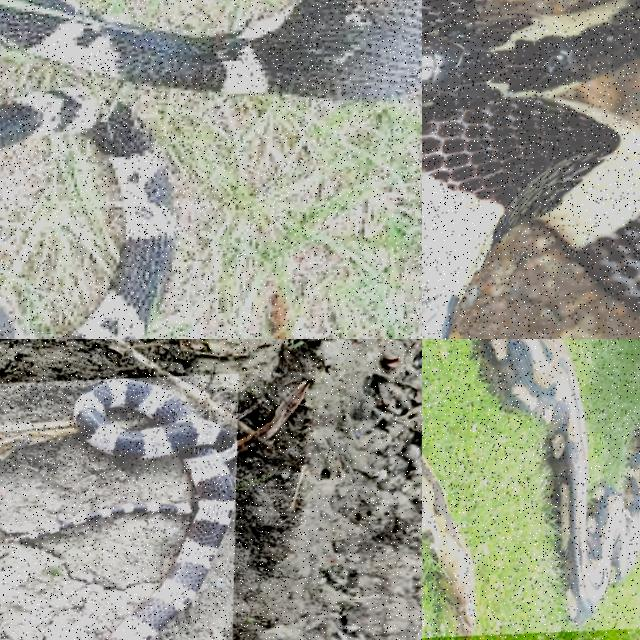Bungarus candidus: (14, 378, 235, 639)
Bungarus fasciatus: (422, 0, 639, 338)
Malayopython reticulatus: (477, 339, 639, 622)
Naja siamensis: (0, 0, 421, 102)
